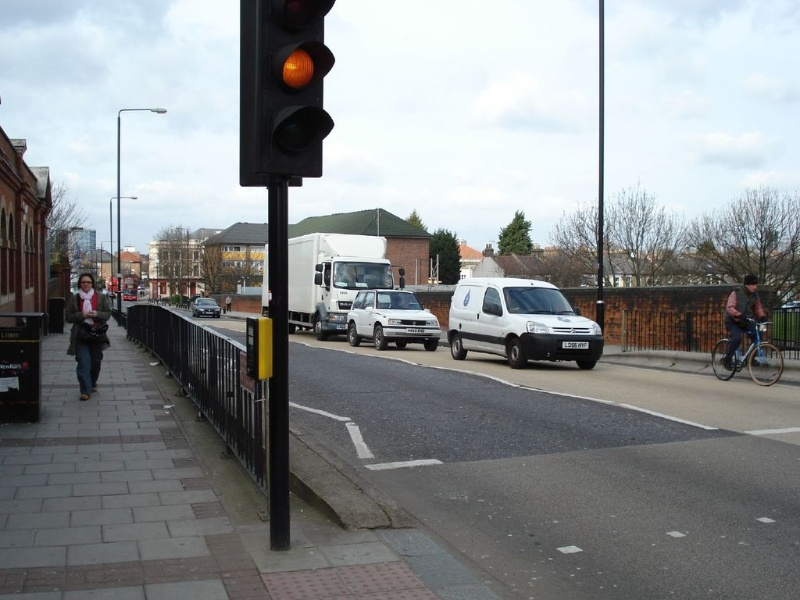yellow_light: (260, 31, 343, 102)
